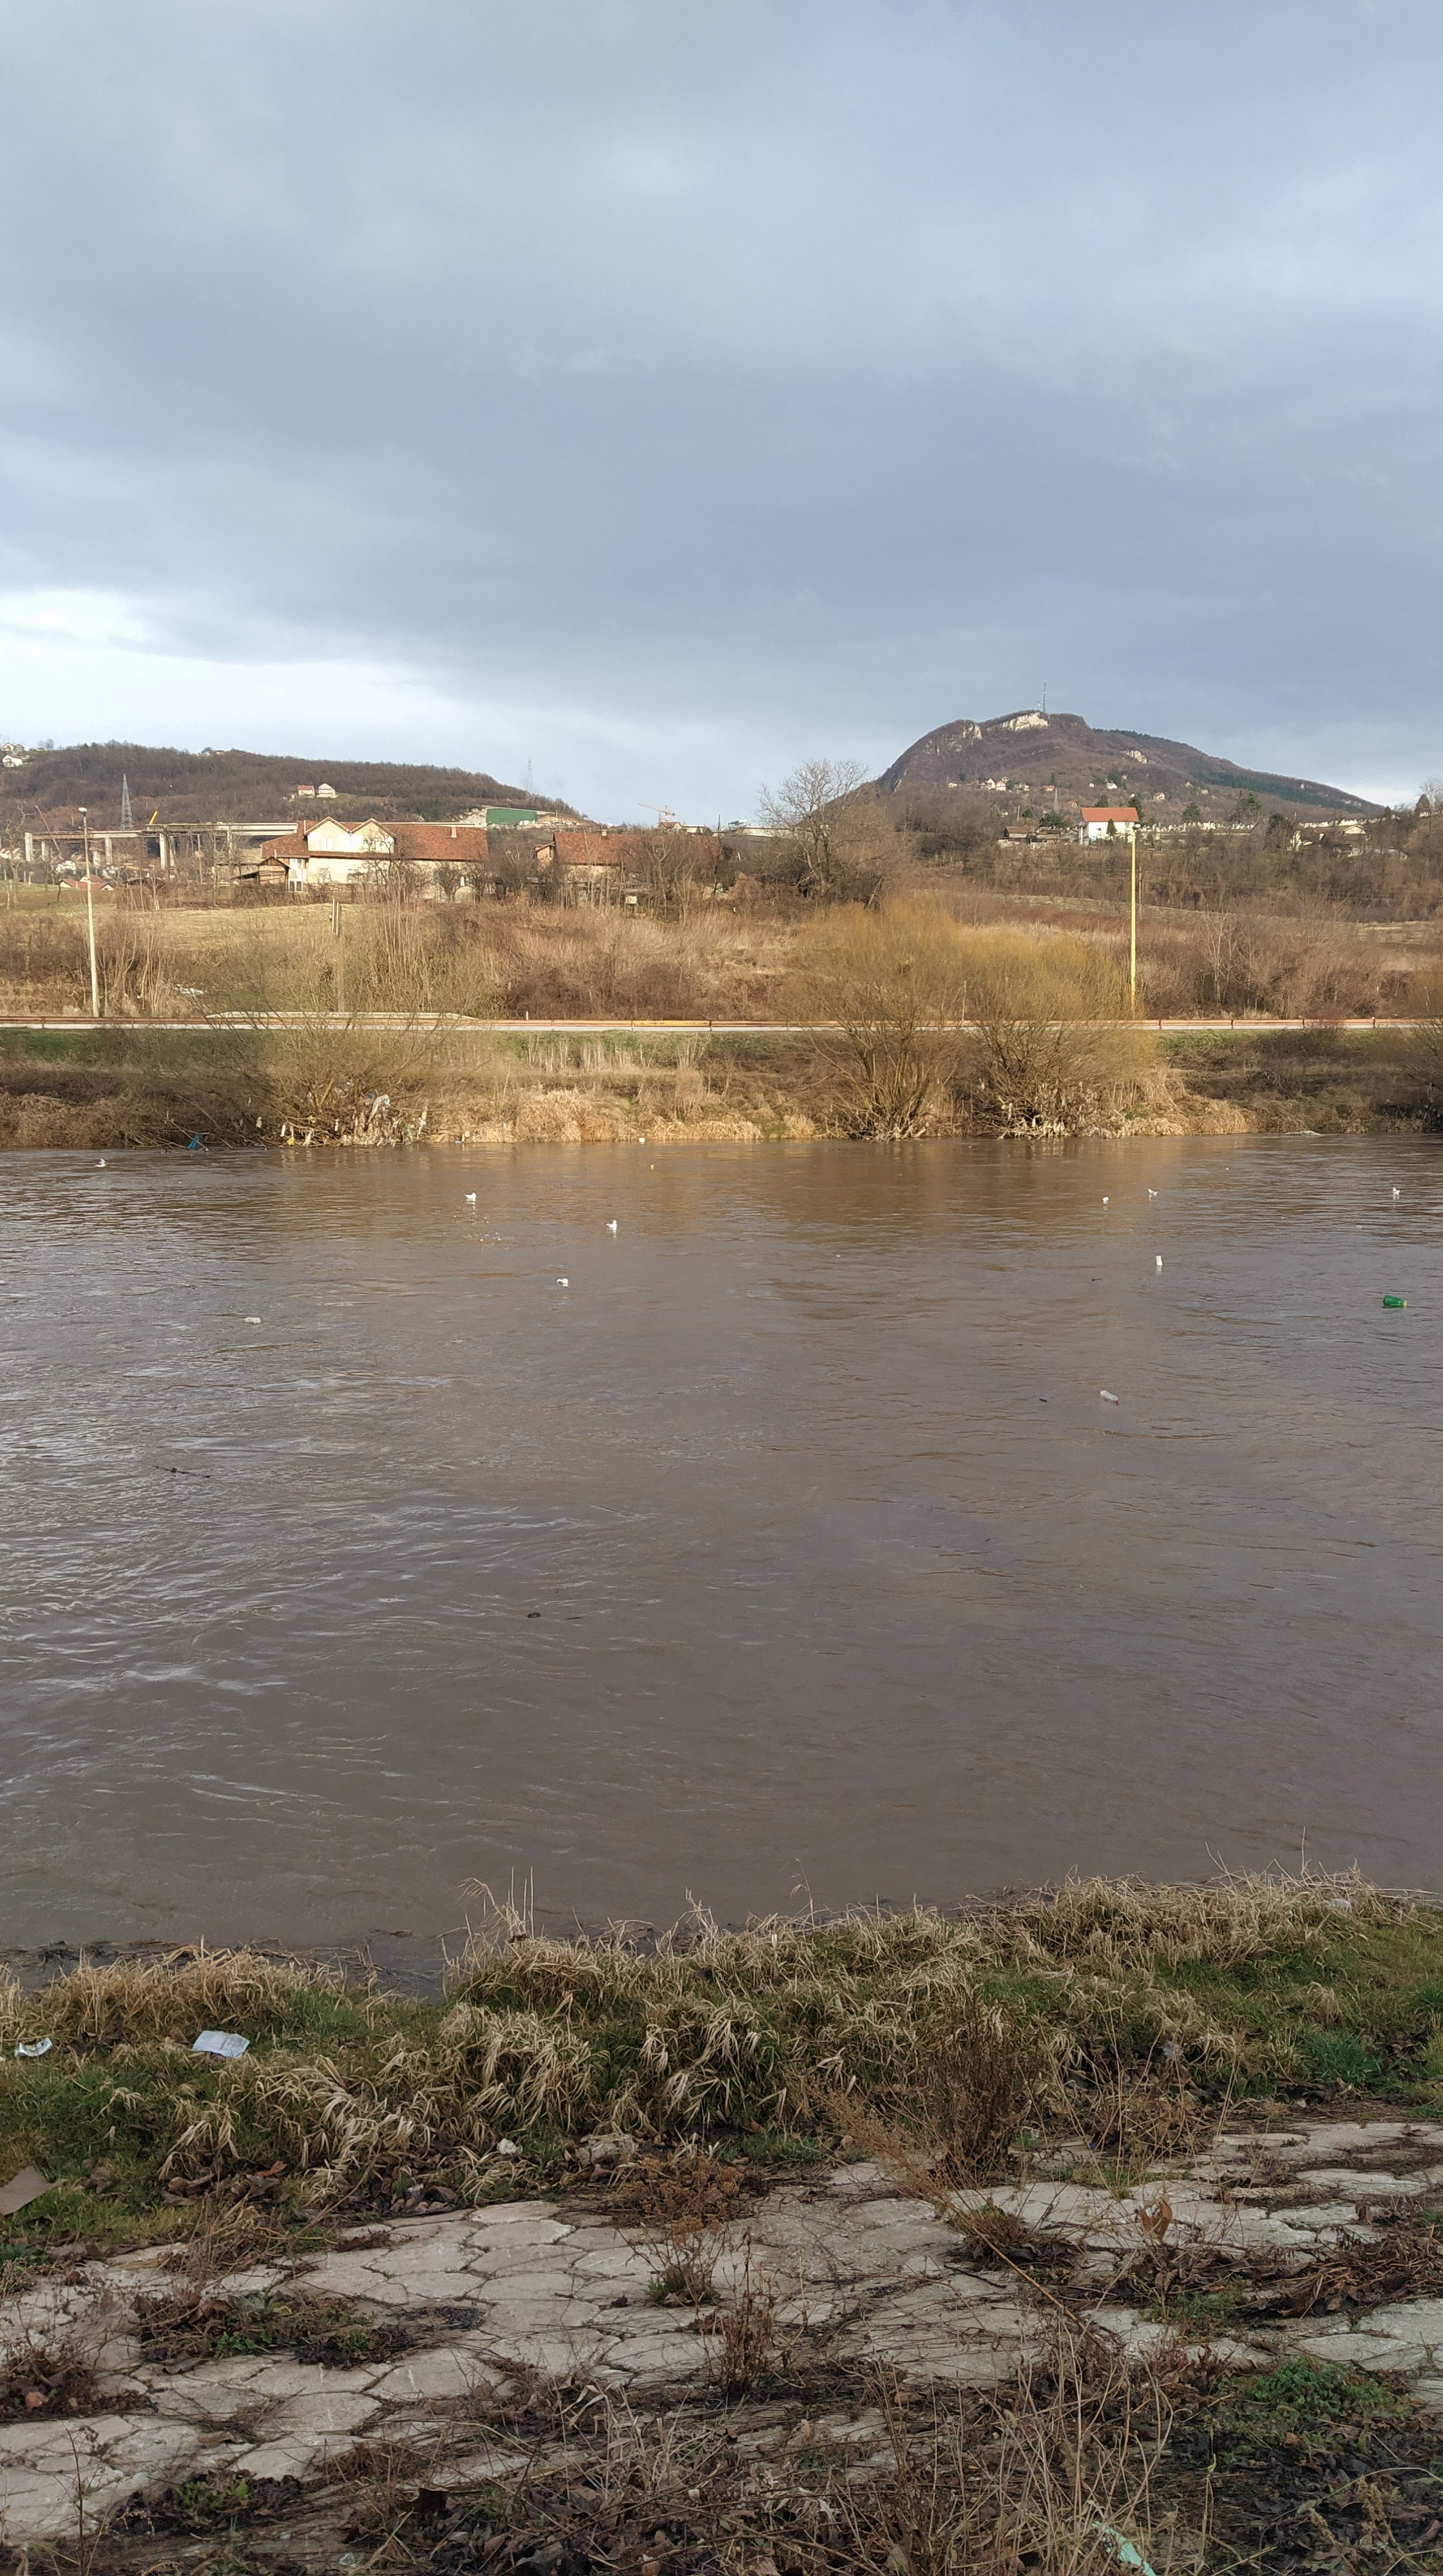Plastic Bottle: (1101, 1391, 1119, 1405), (1385, 1295, 1406, 1306), (244, 1316, 259, 1323), (1156, 1256, 1161, 1267), (556, 1279, 568, 1283), (1103, 1198, 1108, 1201)
